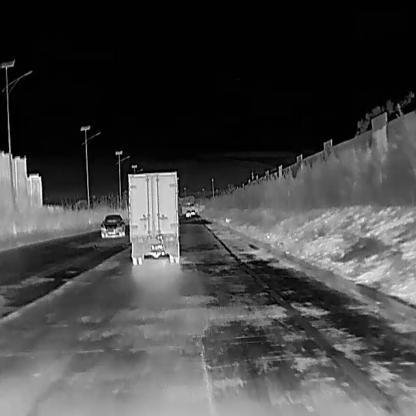car: (127, 170, 181, 264), (100, 213, 124, 236), (185, 209, 192, 216), (190, 208, 196, 214)
